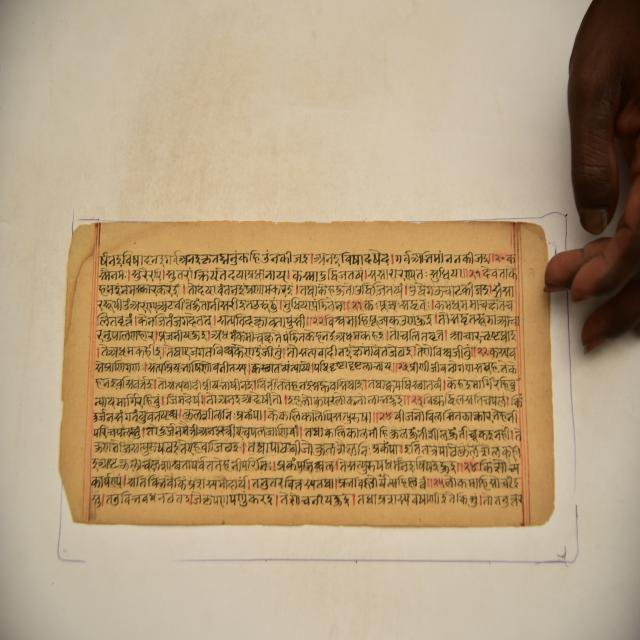text_paragraph: (62, 227, 548, 520)
